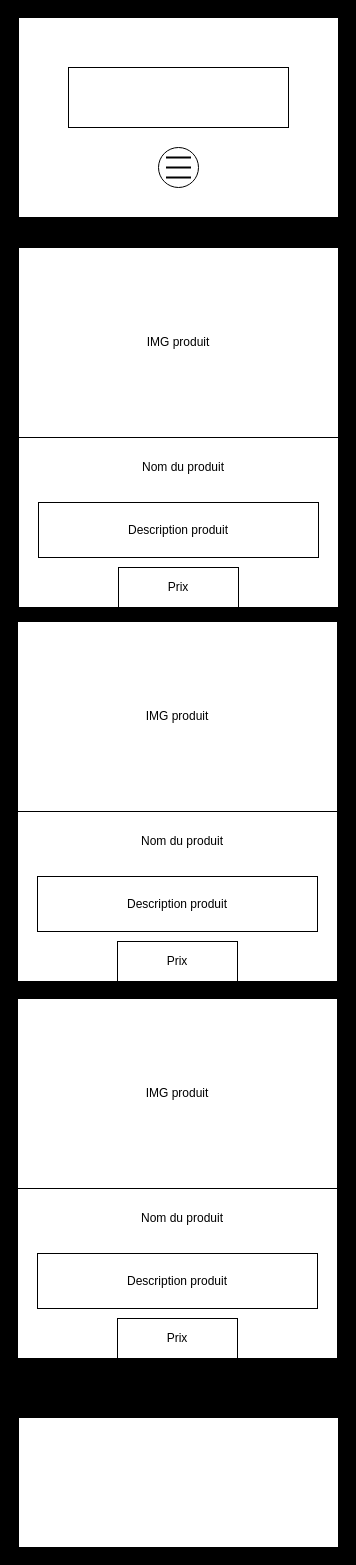
This 356x1565 diagram has some shape labels left out. Each missing label, with the centre of its shape:
"Footer" belongs at (x=178, y=1482).
"TERRE DE GEEK" belongs at (x=178, y=97).
